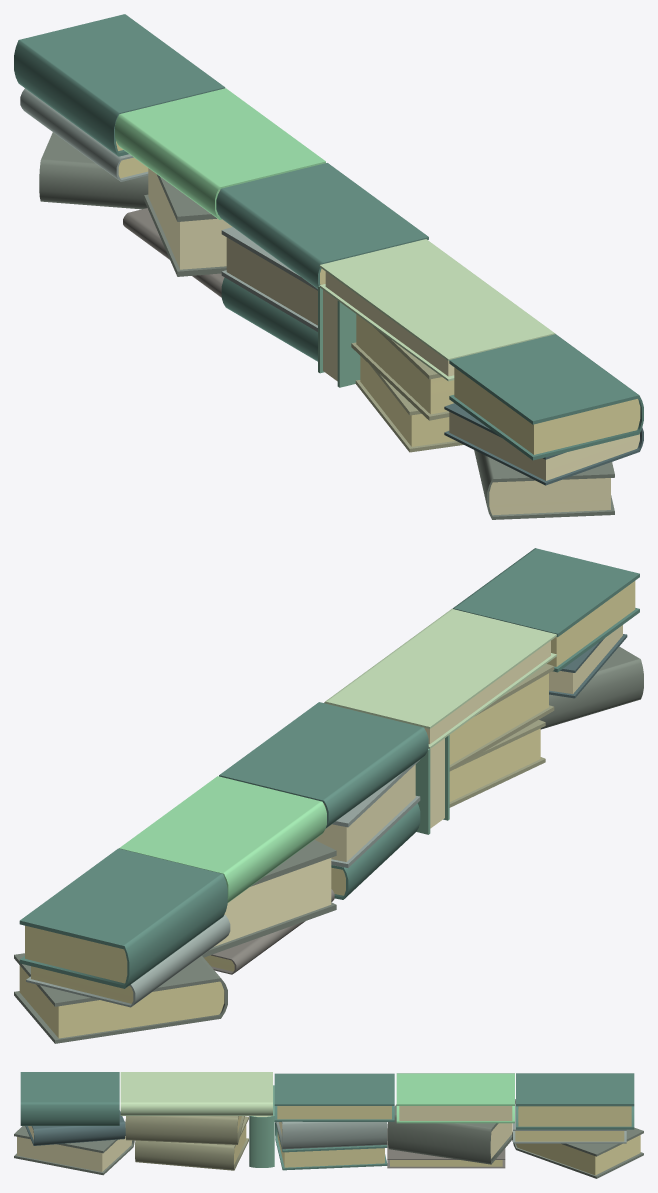
Rendered from 01_Start-right.fbx.
The picture shows the model from 3 angles, top to bottom: view 1: azimuth 30°, elevation 25°; view 2: azimuth 150°, elevation 25°; view 3: azimuth 270°, elevation 25°; orthographic projection. The views are drawn at different scales.
Parts seen in each view (by area): view 1: Szene_START_right; view 2: Szene_START_right; view 3: Szene_START_right.
Part boxes in pixels (bbox=[...]): Szene_START_right: bbox=[14, 14, 643, 519]; Szene_START_right: bbox=[14, 548, 643, 1043]; Szene_START_right: bbox=[14, 1072, 643, 1178].
Size of the model in its own units: 10.86 by 6.06 by 53.77.
